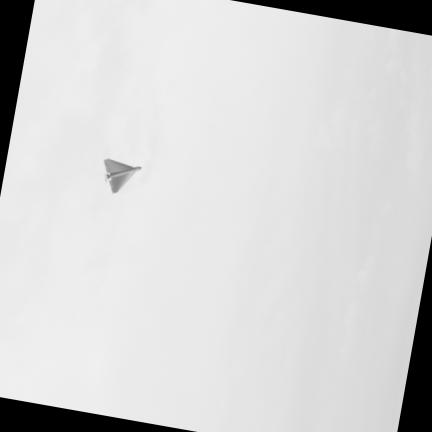Shahed: (104, 158, 140, 192)
